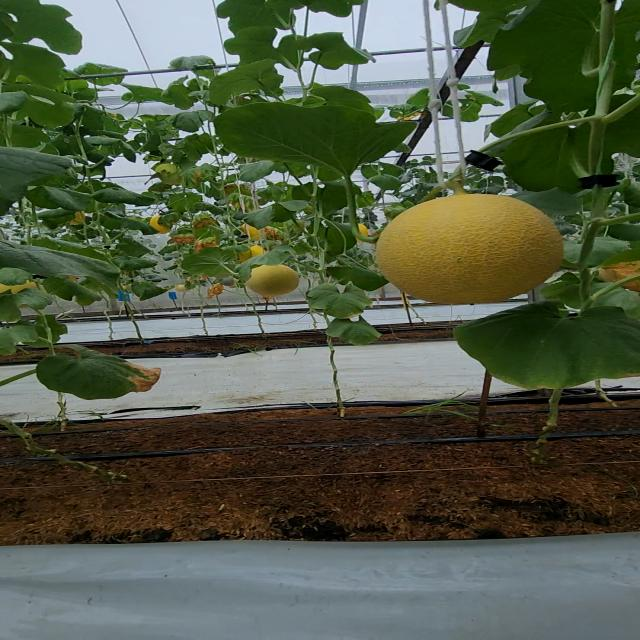Melon: (371, 191, 559, 312), (246, 262, 306, 299)
